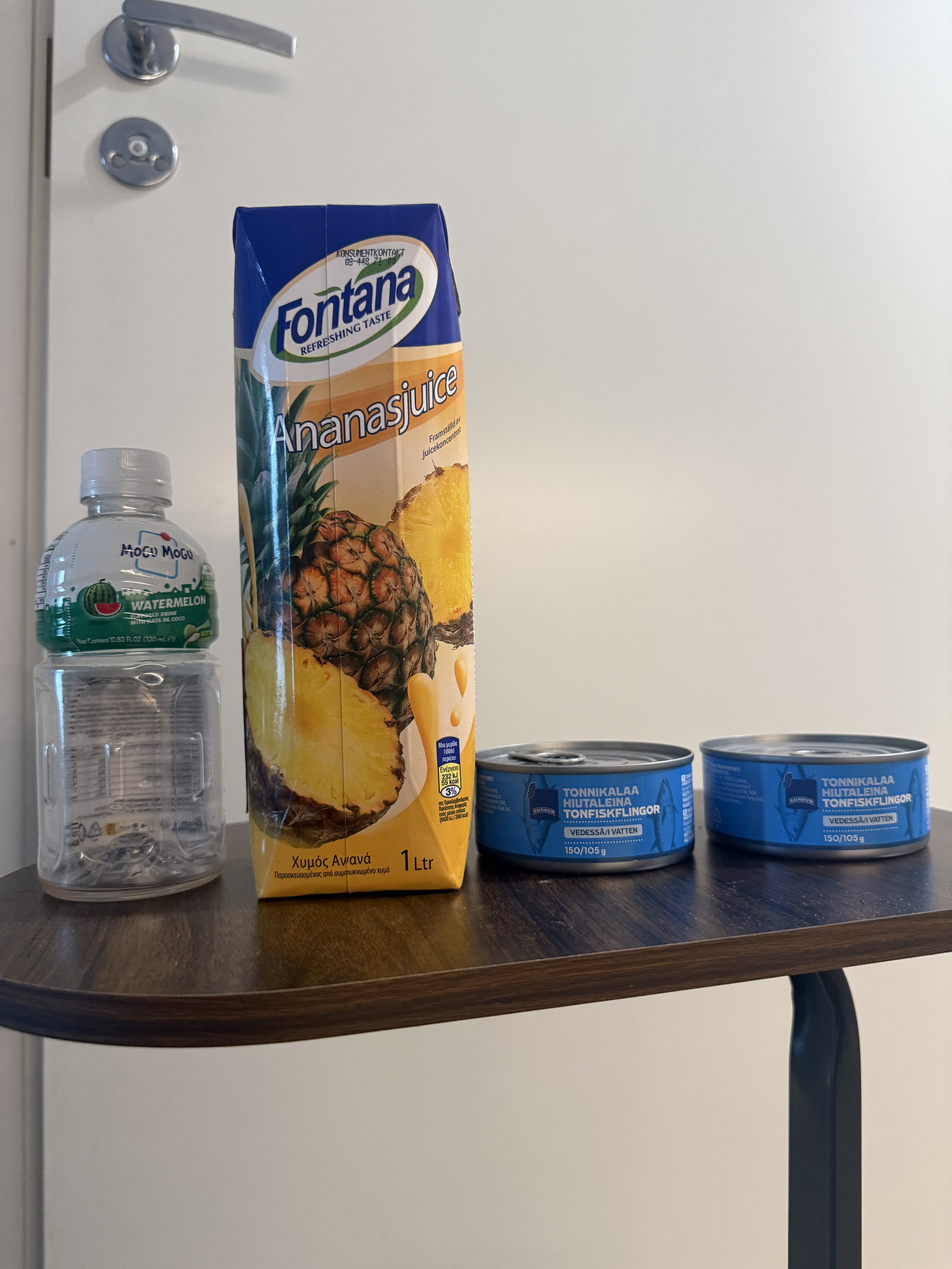Dryckeskartong: (232, 207, 471, 896)
Konservburk: (701, 738, 931, 859), (477, 750, 693, 857)
Pantburk: (35, 447, 222, 894)
